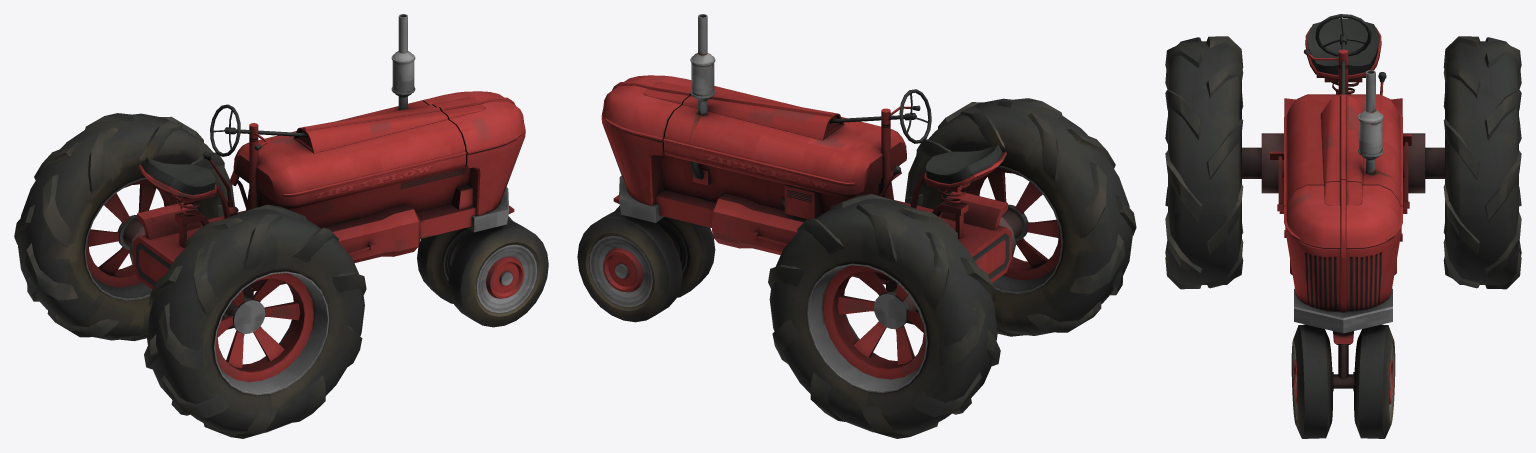
Rendered from tractor_old.dae.
The picture shows the model from 3 angles, left to right: view 1: azimuth 30°, elevation 25°; view 2: azimuth 150°, elevation 25°; view 3: azimuth 270°, elevation 25°; orthographic projection. The views are drawn at different scales.
Parts seen in each view (by area): view 1: tractor_01; view 2: tractor_01; view 3: tractor_01.
Part boxes in pixels (left/top/right/bottom): tractor_01: left=14, top=14, right=548, bottom=438; tractor_01: left=577, top=14, right=1136, bottom=438; tractor_01: left=1165, top=14, right=1521, bottom=438.
Size of the model in its own units: 4.25 by 2.76 by 2.78.
Materials: 1 (1 with a texture image).
